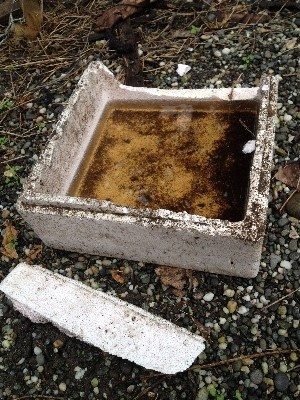styrofoam: (13, 60, 280, 279)
